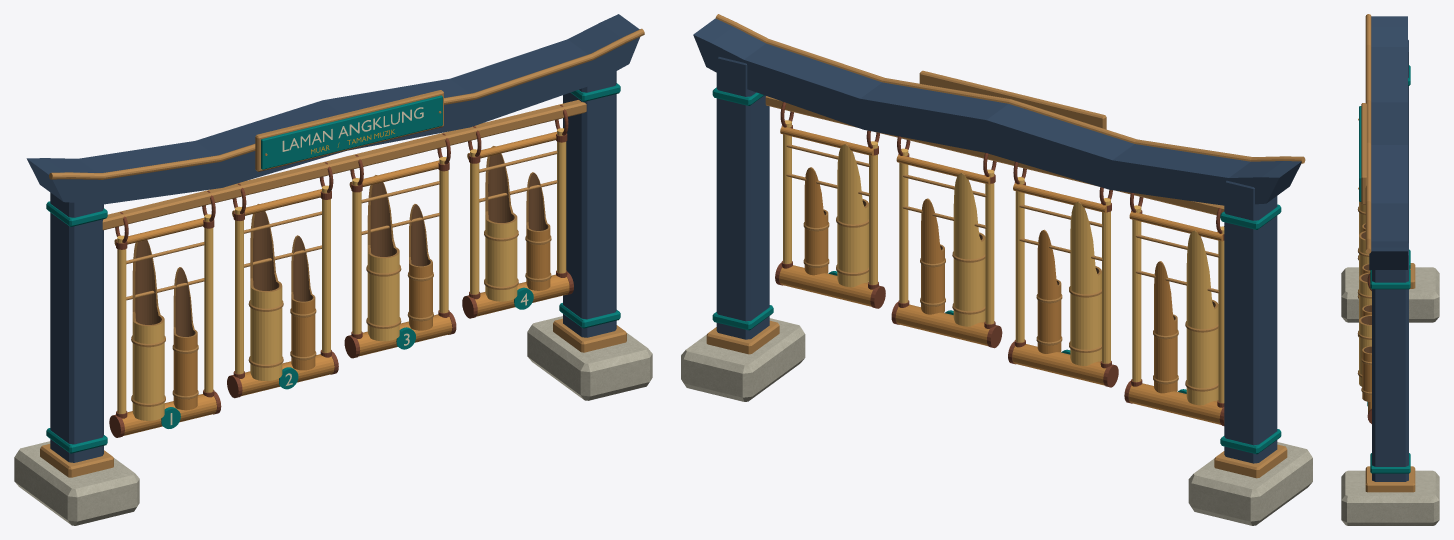
The picture shows the model from 3 angles, left to right: view 1: azimuth 30°, elevation 25°; view 2: azimuth 150°, elevation 25°; view 3: azimuth 270°, elevation 25°; orthographic projection. The views are drawn at different scales.
Visible parts, largest first — view 1: Split bamboo voices, Painted iron uprights, Indigo crest, Pavilion stone shoes, Frame stiles, Suspension rail, Enamel plaque field, Slotted base canes, Crest brass lip, Frame shoulders, Voice crosspins, Foot ring (+8 smaller); view 2: Indigo crest, Painted iron uprights, Split bamboo voices, Pavilion stone shoes, Frame stiles, Slotted base canes, Crest brass lip, Frame shoulders, Foot ring, Post collars, Beaded plaque rim, Raised bamboo nodes (+4 smaller); view 3: Indigo crest, Painted iron uprights, Pavilion stone shoes, Split bamboo voices, Crest brass lip, Foot ring, Post collars, Beaded plaque rim, Enamel plaque field, Raised bamboo nodes.
Part boxes in pixels (x1,y1,x2,y2): Split bamboo voices: (132, 146, 550, 420); Painted iron uprights: (50, 71, 616, 462); Indigo crest: (26, 14, 639, 204); Pavilion stone shoes: (14, 316, 652, 525); Frame stiles: (117, 128, 566, 413); Suspension rail: (102, 100, 586, 230); Enamel plaque field: (261, 95, 442, 169); Slotted base canes: (122, 274, 569, 435); Crest brass lip: (49, 28, 644, 179); Frame shoulders: (114, 131, 556, 245); Voice crosspins: (126, 150, 557, 300); Foot ring: (40, 318, 626, 477); Indigo crest: (693, 18, 1301, 205); Painted iron uprights: (716, 57, 1277, 463); Split bamboo voices: (804, 143, 1218, 405); Pavilion stone shoes: (681, 318, 1312, 525); Frame stiles: (783, 120, 1224, 403); Slotted base canes: (779, 265, 1222, 424); Crest brass lip: (715, 14, 1305, 163); Frame shoulders: (780, 126, 1223, 241); Foot ring: (706, 320, 1287, 478); Post collars: (712, 87, 1281, 454); Beaded plaque rim: (919, 70, 1106, 129); Raised bamboo nodes: (803, 216, 1218, 391); Indigo crest: (1369, 16, 1407, 269); Painted iron uprights: (1372, 40, 1408, 481); Pavilion stone shoes: (1341, 267, 1439, 525); Split bamboo voices: (1359, 201, 1371, 401); Crest brass lip: (1365, 14, 1371, 253); Foot ring: (1365, 263, 1415, 492); Post collars: (1370, 65, 1410, 473); Beaded plaque rim: (1361, 103, 1366, 204); Enamel plaque field: (1359, 106, 1361, 201); Raised bamboo nodes: (1357, 206, 1371, 394).
Bounding box in the file's own units: 3.59 × 1.99 × 0.633.
Materials: 11 (1 with a texture image).
